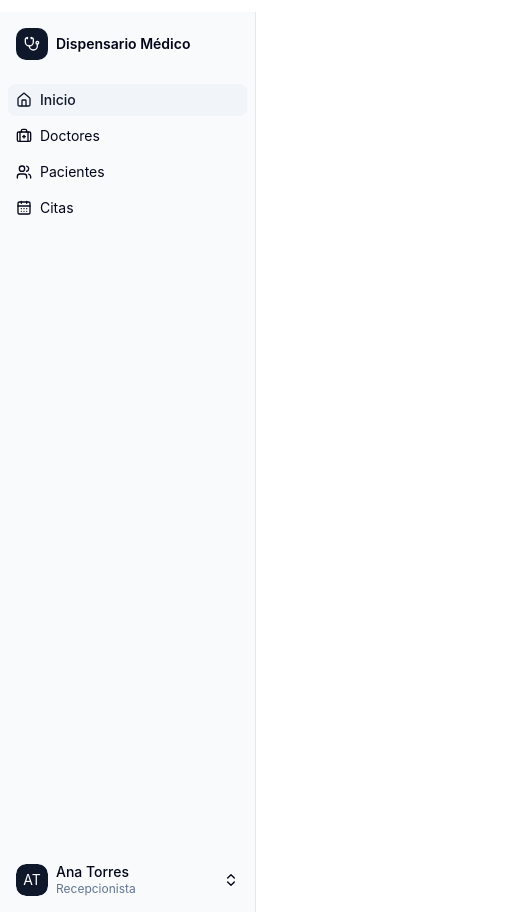
Test: AppSidebar › opens the user menu with the email, Mi perfil, Tema and Cerrar sesión
Click the button with aria-label "Menú de usuario": click(128, 880) [8,856,247,904]
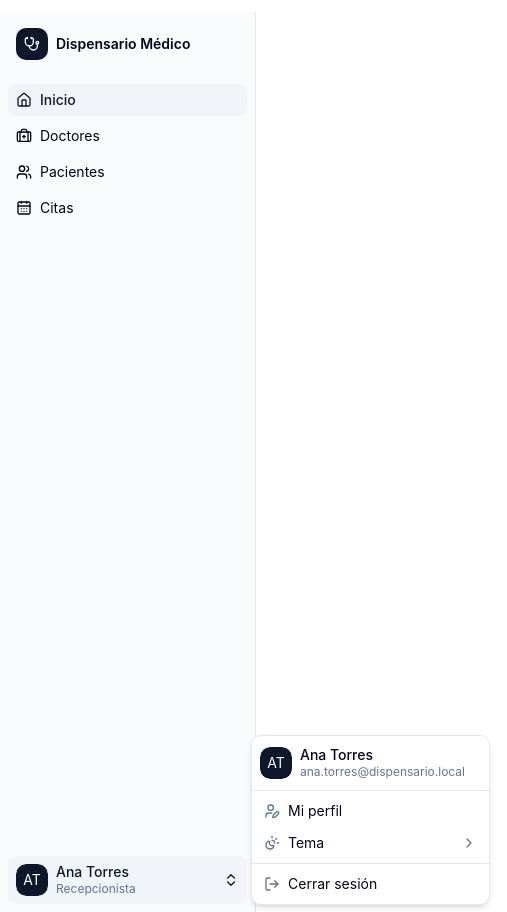
Expected: the text "ana.torres@dispensario.local" is shown, [300,764,481,780]
Expected: the menu item "Tema" is shown, [264,834,477,850]
Expected: the menu item "Cerrar sesión" is shown, [264,874,377,892]
